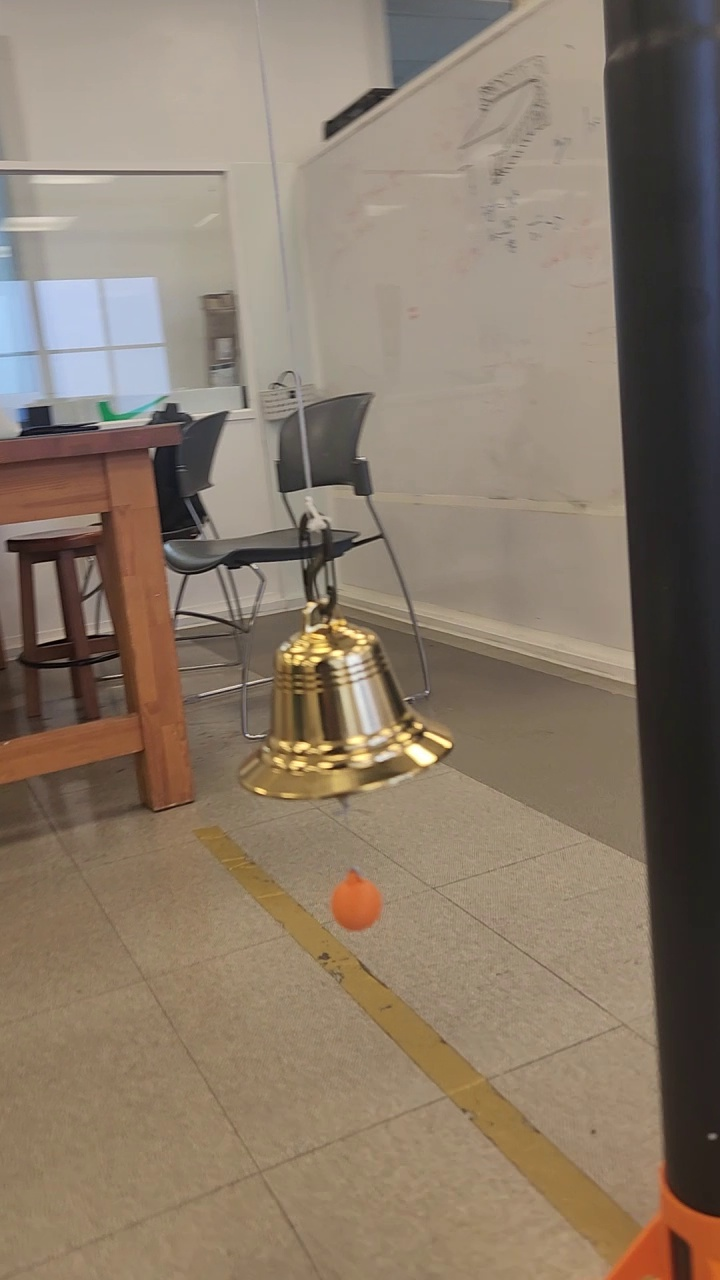bell: (234, 612, 459, 798)
pole: (602, 0, 720, 1275), (601, 0, 720, 1197)
